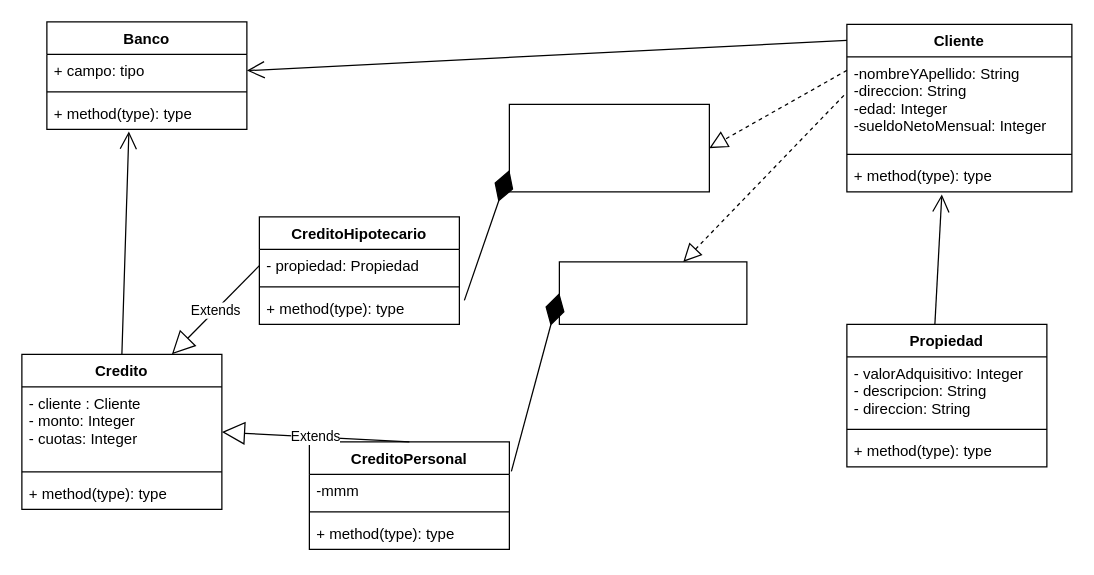
The diagram is 1094 pixels wide and 575 high, and some of its shapes have lost their labels. The shapes that lost their labels are listed below. From the top down, each one's centre as x and y in pixels, then its label:
At [608,147]: "SolicitudCreditoHipotecario".
At [652,292]: "SolicitudCreditoPersonal".
